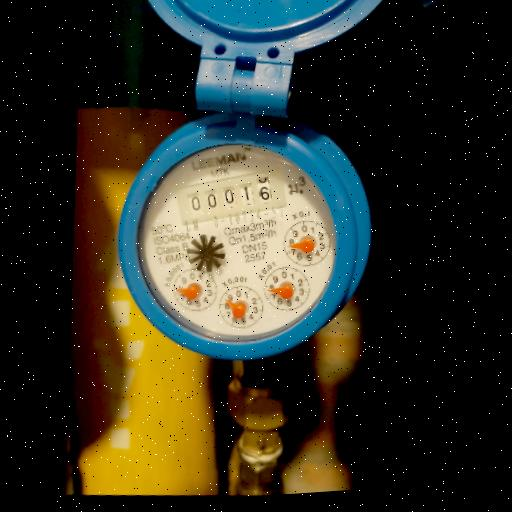0: (219, 185, 239, 211), (186, 190, 205, 217), (202, 188, 221, 214)
1: (237, 180, 257, 207)
6: (252, 173, 277, 207)
border_water_meter_number: (171, 159, 291, 236)
